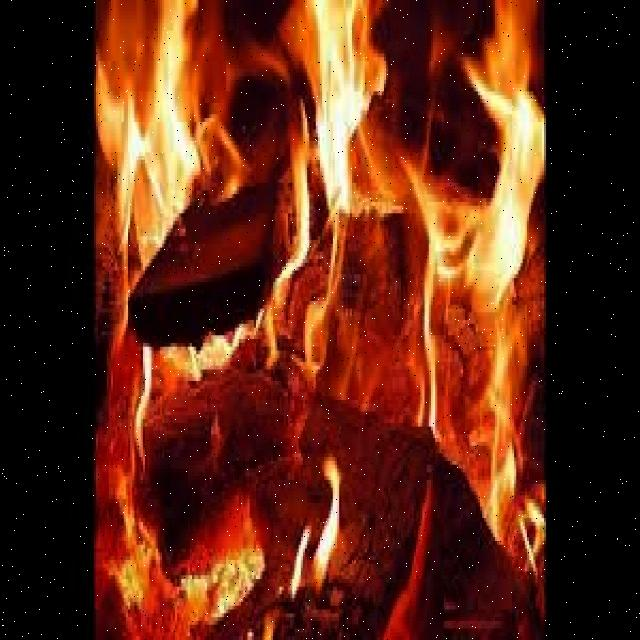fire: (108, 18, 535, 640)
